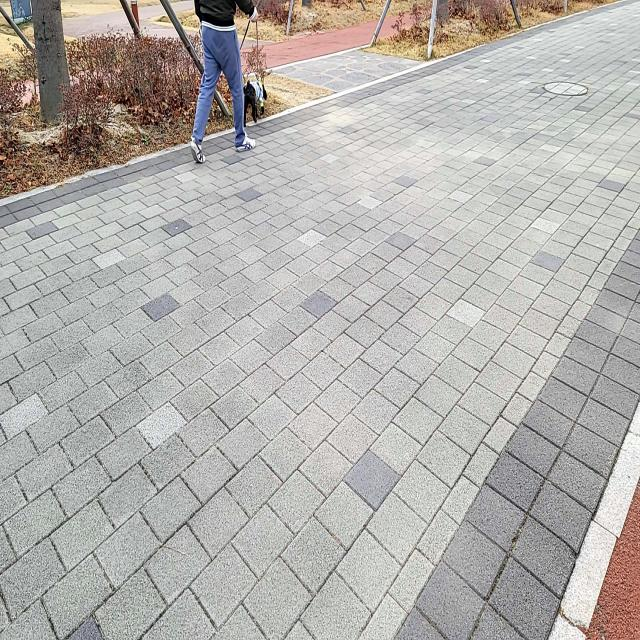Leashed_Dog: (220, 0, 268, 128)
